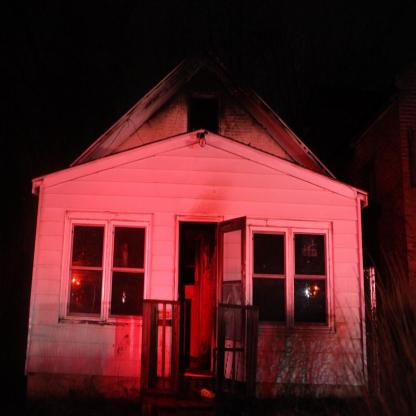other: (69, 269, 84, 297), (302, 279, 324, 298)
